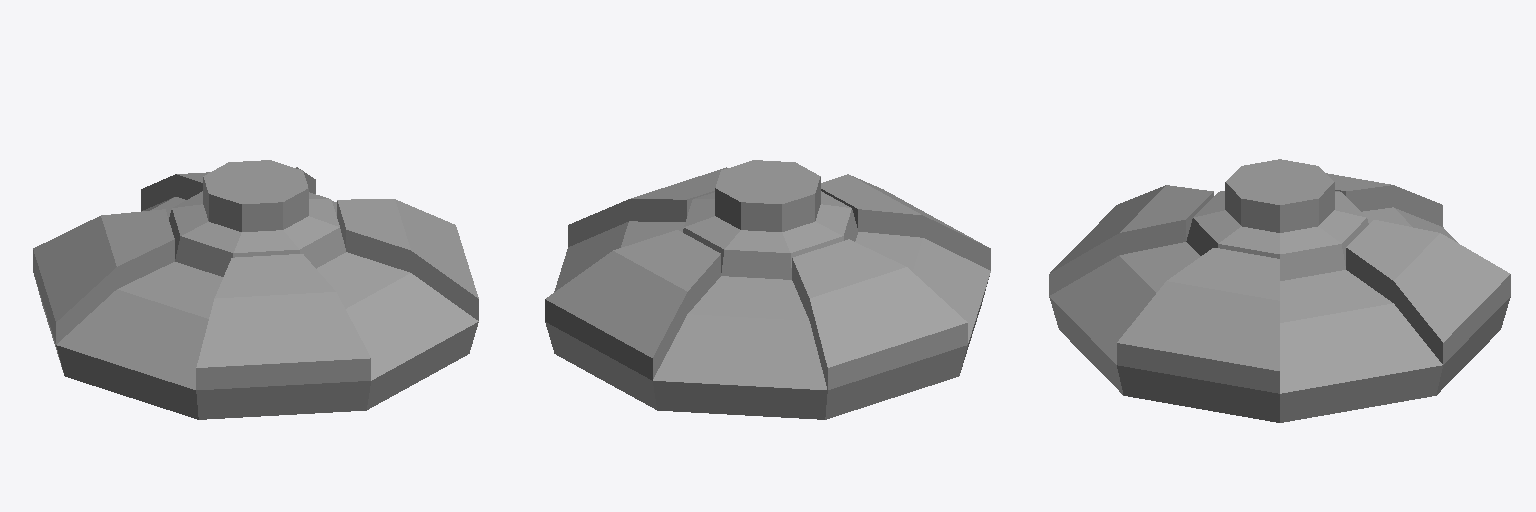
Rendered from mine.obj.
The picture shows the model from 3 angles: view 1: azimuth 30°, elevation 25°; view 2: azimuth 150°, elevation 25°; view 3: azimuth 270°, elevation 25°; orthographic projection.
Visible parts, largest first — view 1: Sword.002; view 2: Sword.002; view 3: Sword.002.
Boxes of the visible parts, box(x1,y1,x2,y2) form: Sword.002: box(33, 160, 478, 419); Sword.002: box(545, 160, 990, 419); Sword.002: box(1049, 159, 1510, 422).
Size of the model in its own units: 1.54 by 0.5443 by 1.54.